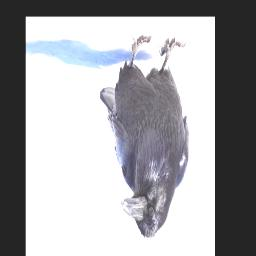Crow: (98, 33, 190, 241)
